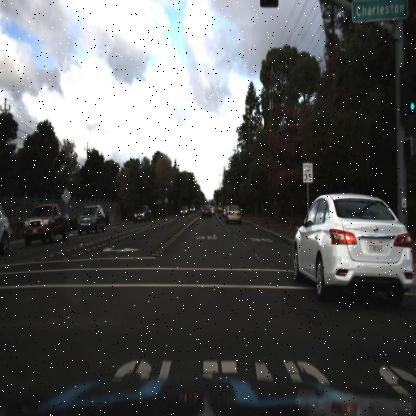car: (283, 178, 416, 312), (21, 197, 72, 253), (74, 200, 109, 236), (0, 198, 21, 255), (129, 200, 152, 231), (221, 200, 246, 223), (199, 201, 215, 221), (180, 205, 190, 217)
